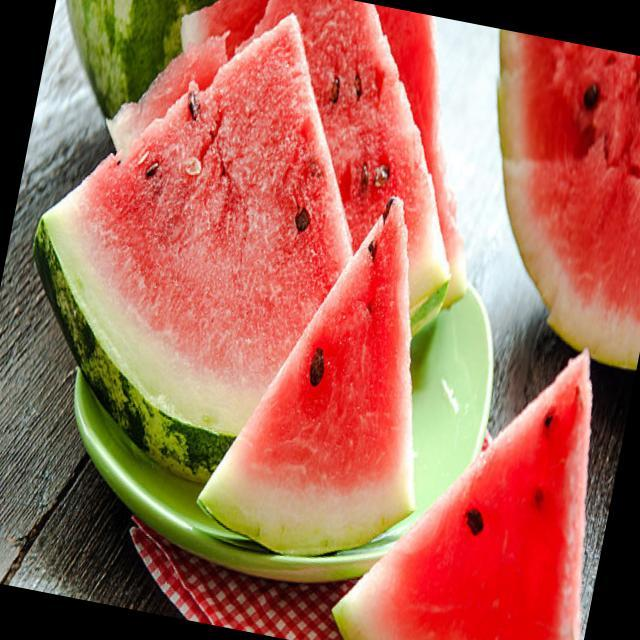WATERMELON: (0, 0, 397, 485), (190, 172, 471, 579), (323, 311, 638, 640), (206, 0, 500, 343), (321, 5, 538, 316), (442, 32, 640, 370), (89, 13, 242, 173), (173, 0, 272, 75)
